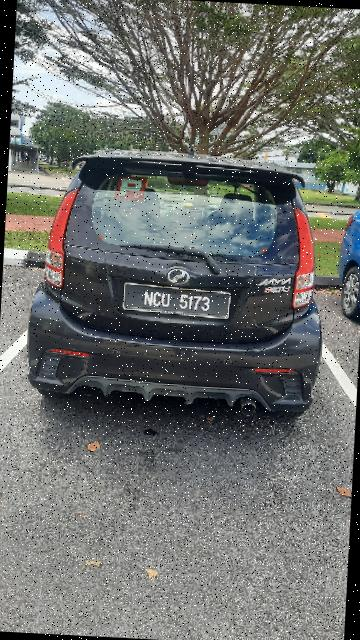License_Plate: (116, 279, 235, 327)
car: (20, 136, 338, 425)
